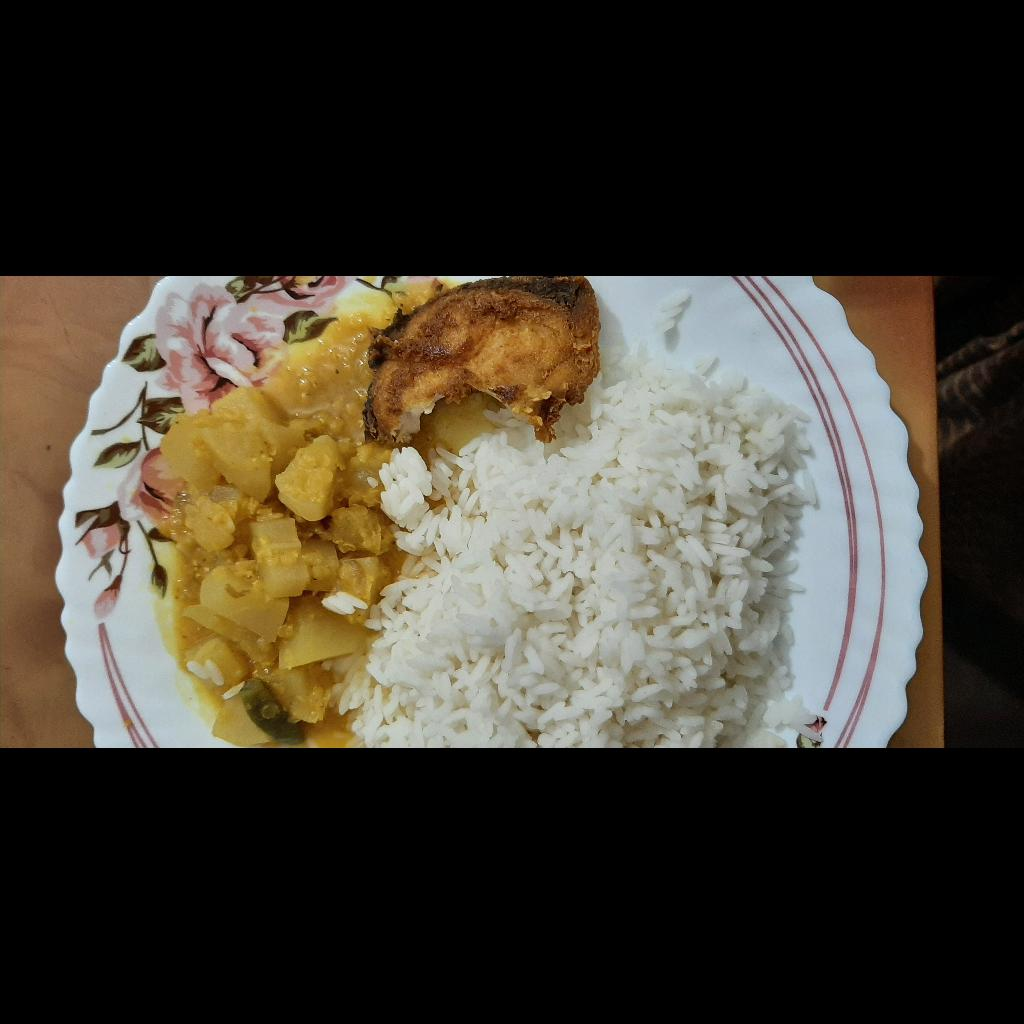daal: (243, 529, 472, 721), (86, 438, 255, 500), (0, 578, 43, 637)
fish: (301, 643, 472, 878)
lau: (0, 435, 364, 681)
rice: (0, 589, 458, 1024)
